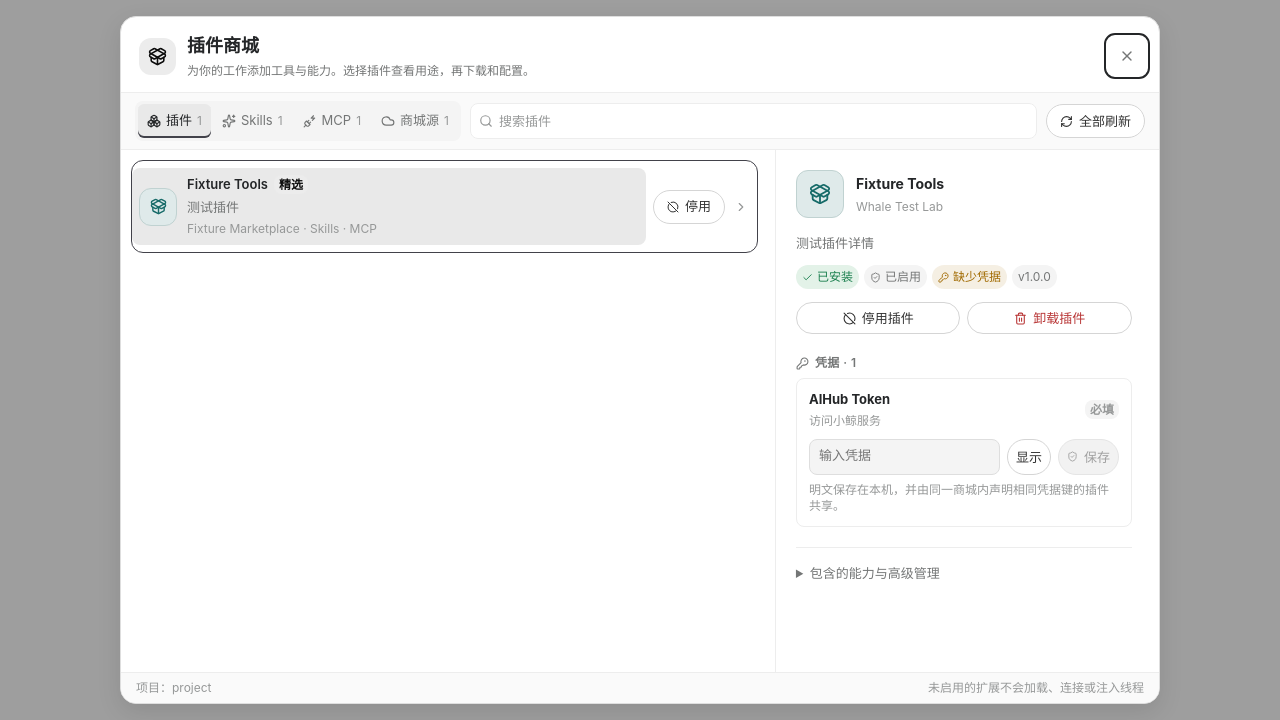
Test: PluginMarketplaceDialog › renders host credential contributions and saves secrets through Whale IPC
This screenshot has width=1280, height=720.
Expected: the text "缺少凭据" is shown, 932,265 -> 1007,289
Type "fixture-secret" into the password field named "AIHub Token 凭据" at {"x": 904, "y": 457}, box 809,439 -> 1000,475
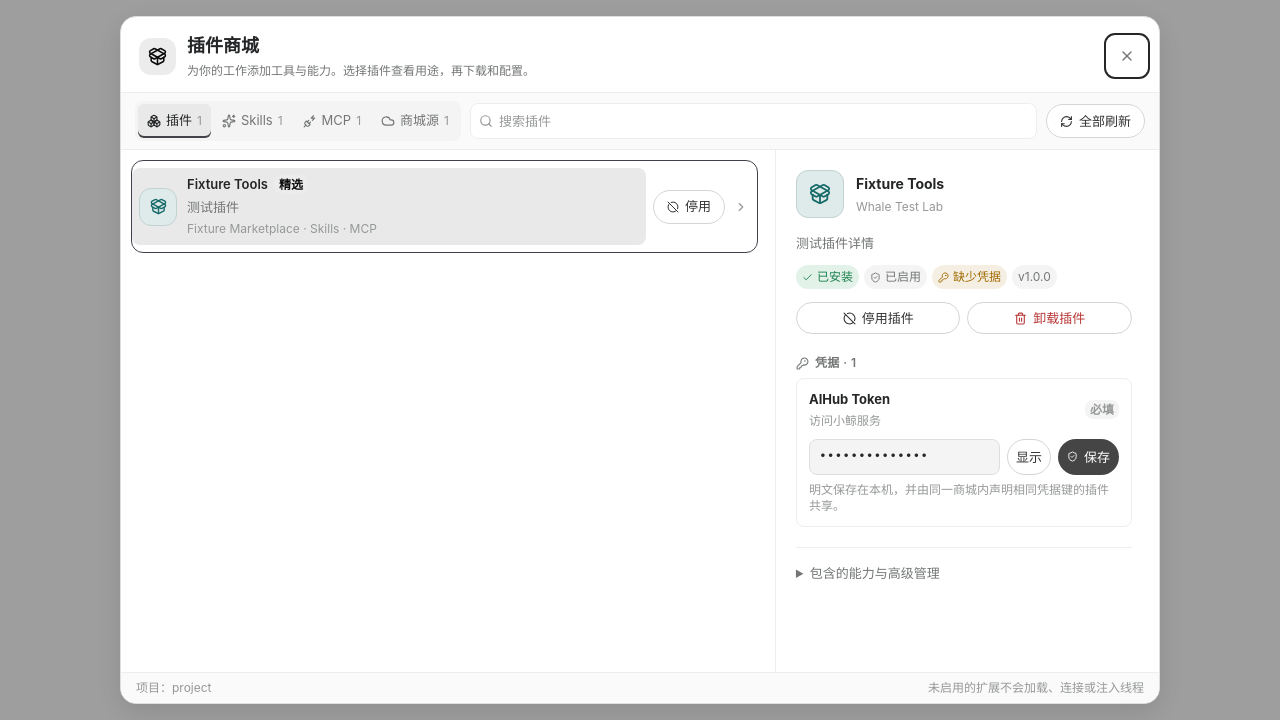
Result: the button "保存" is enabled
# React 状态提交与点击之间存在竞态（慢环境必现），先确认按钮已随输入解除禁用。
Click the button "保存" at {"x": 1088, "y": 457}, box 1058,439 -> 1119,475
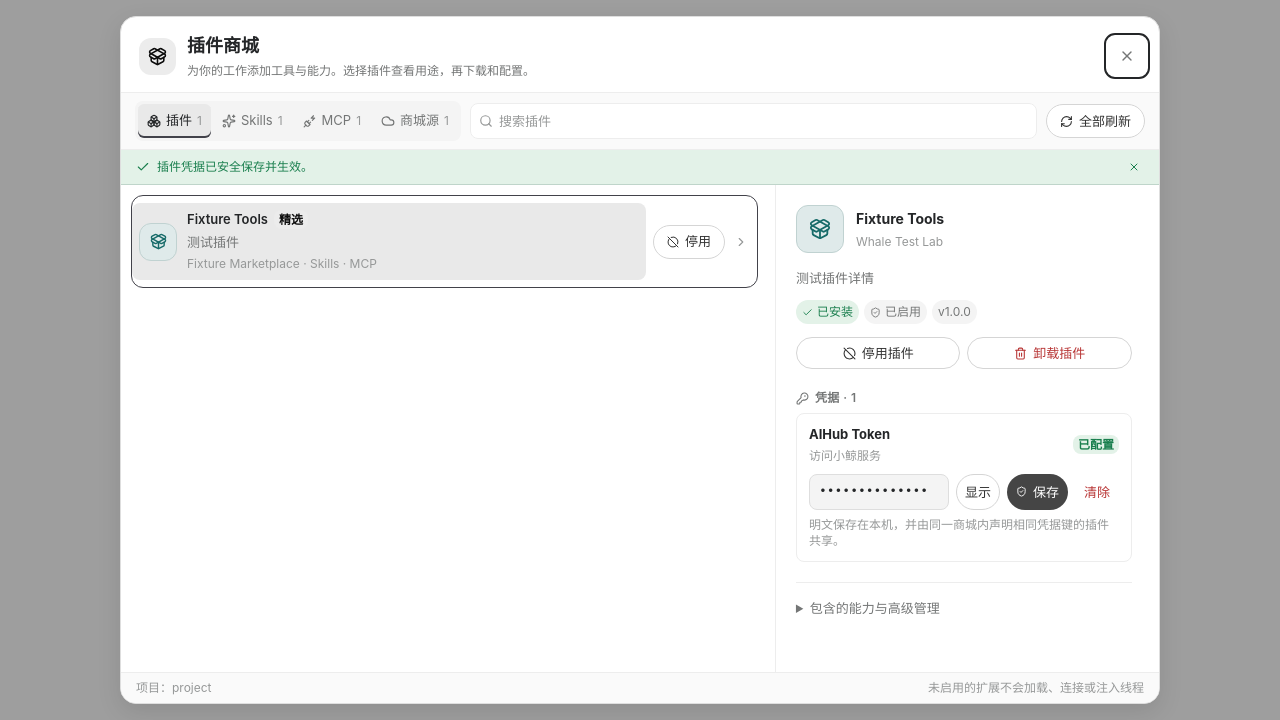
Result: the text "已配置" is shown at 1073,436 -> 1119,454
